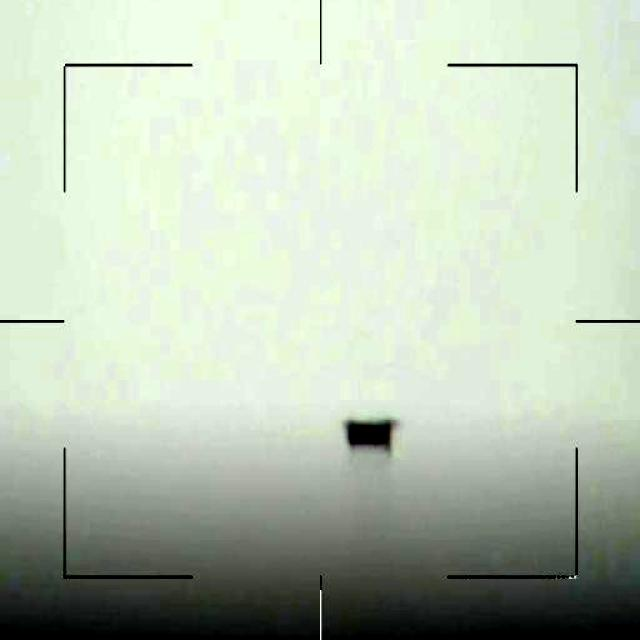bird: (339, 412, 398, 454)
